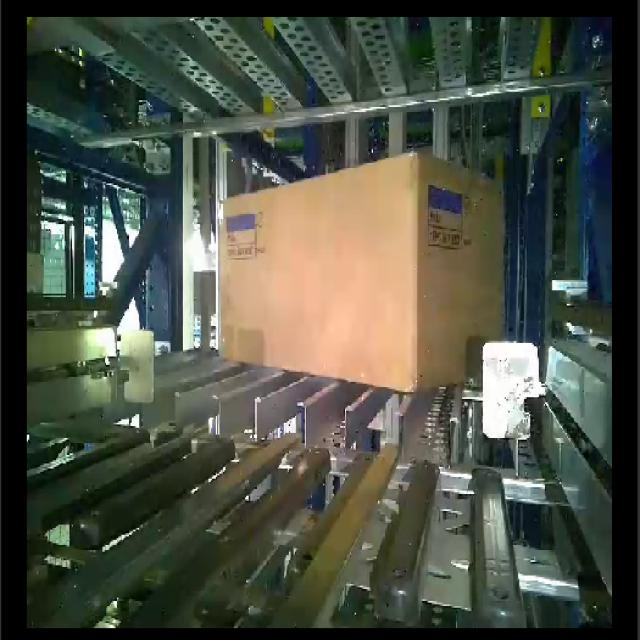box: (217, 150, 418, 393)
